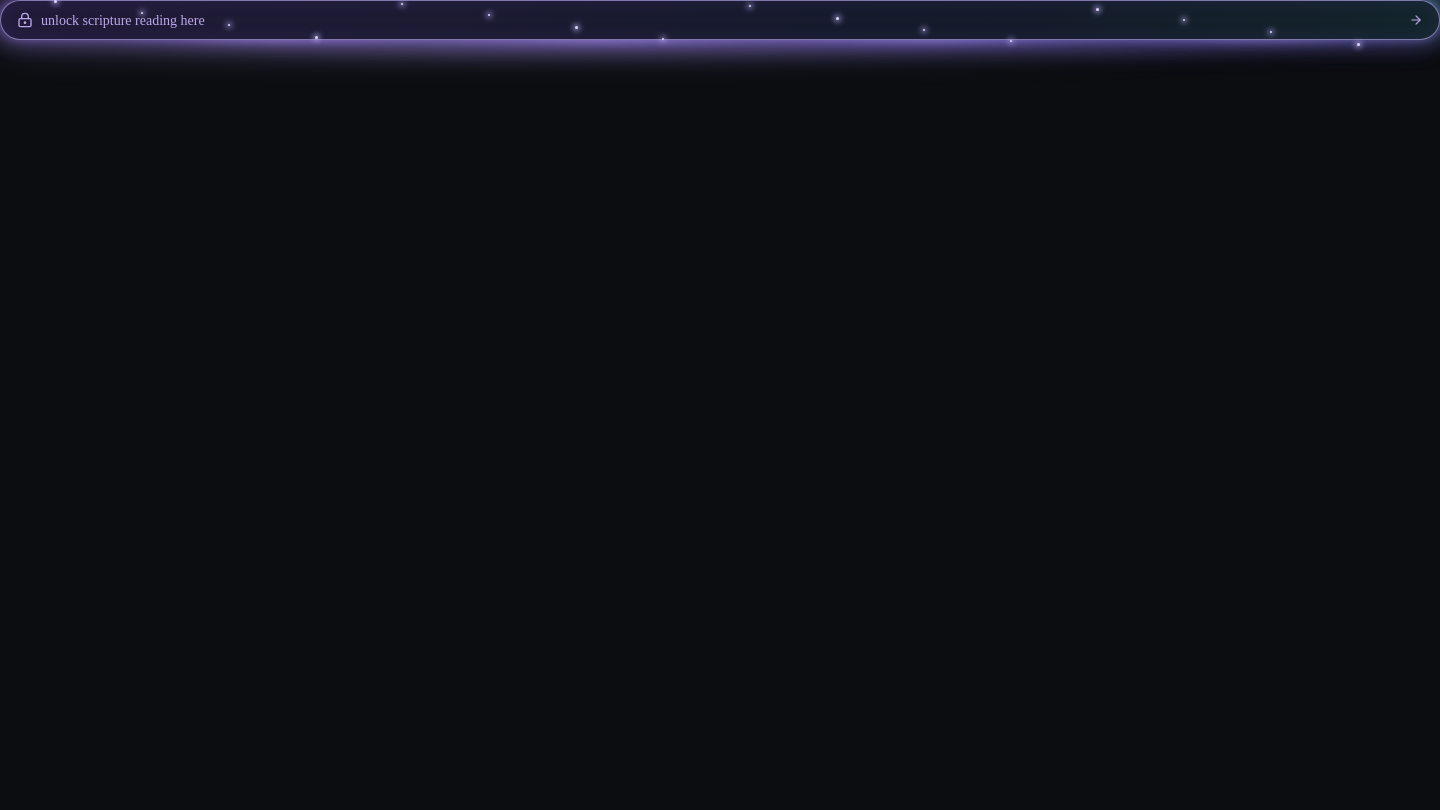
Test case: scripture search setup › starts locked and masks the key, waits for successful storage, and clears the input
Later steps or results of the test are not shown.
Click the button "unlock scripture reading here".
click(123, 20)  # box [0, 0, 1439, 40]
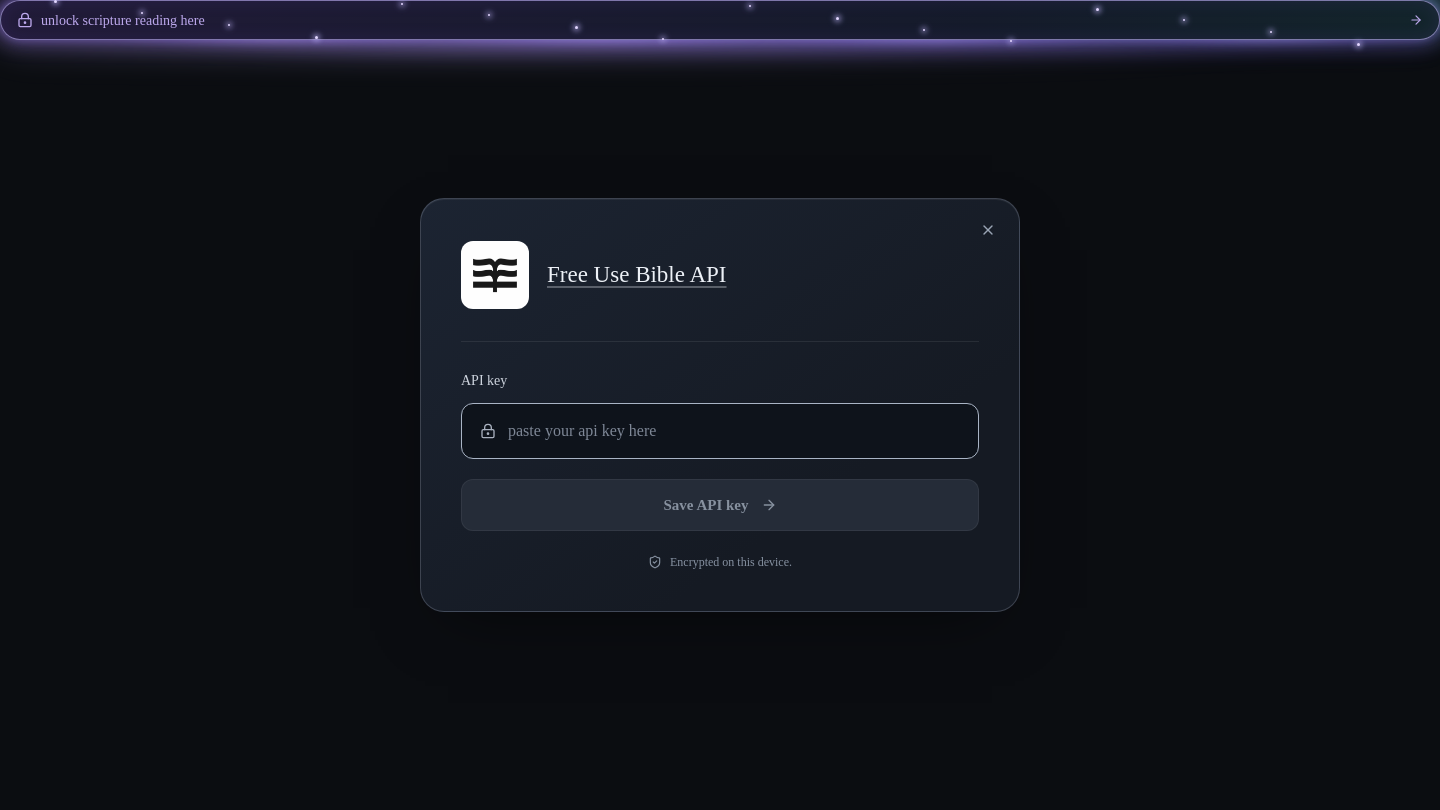
Check: the dialog "Free Use Bible API" is shown, box [420, 198, 1020, 612]
Check: the password field named "API.Bible API key" is enabled, box [508, 404, 960, 458]
Click the link "Free Use Bible API".
click(637, 274)  # box [547, 262, 726, 287]
Type " synthetic-test-key " into the password field named "API.Bible API key".
click(734, 431); type(" synthetic-test-key ")  # box [508, 404, 960, 458]
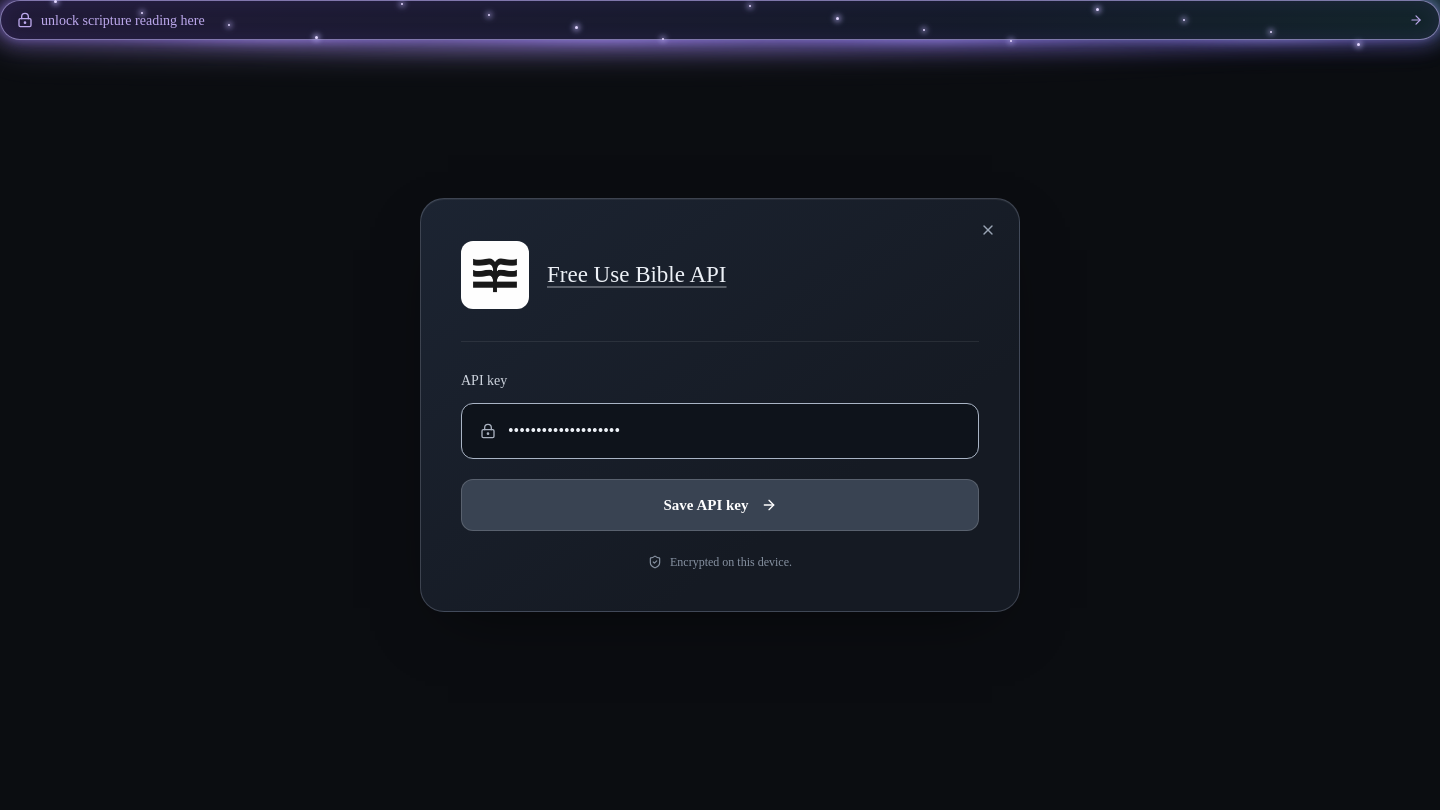
Submit the form named "Scripture search setup", box [461, 341, 979, 531]
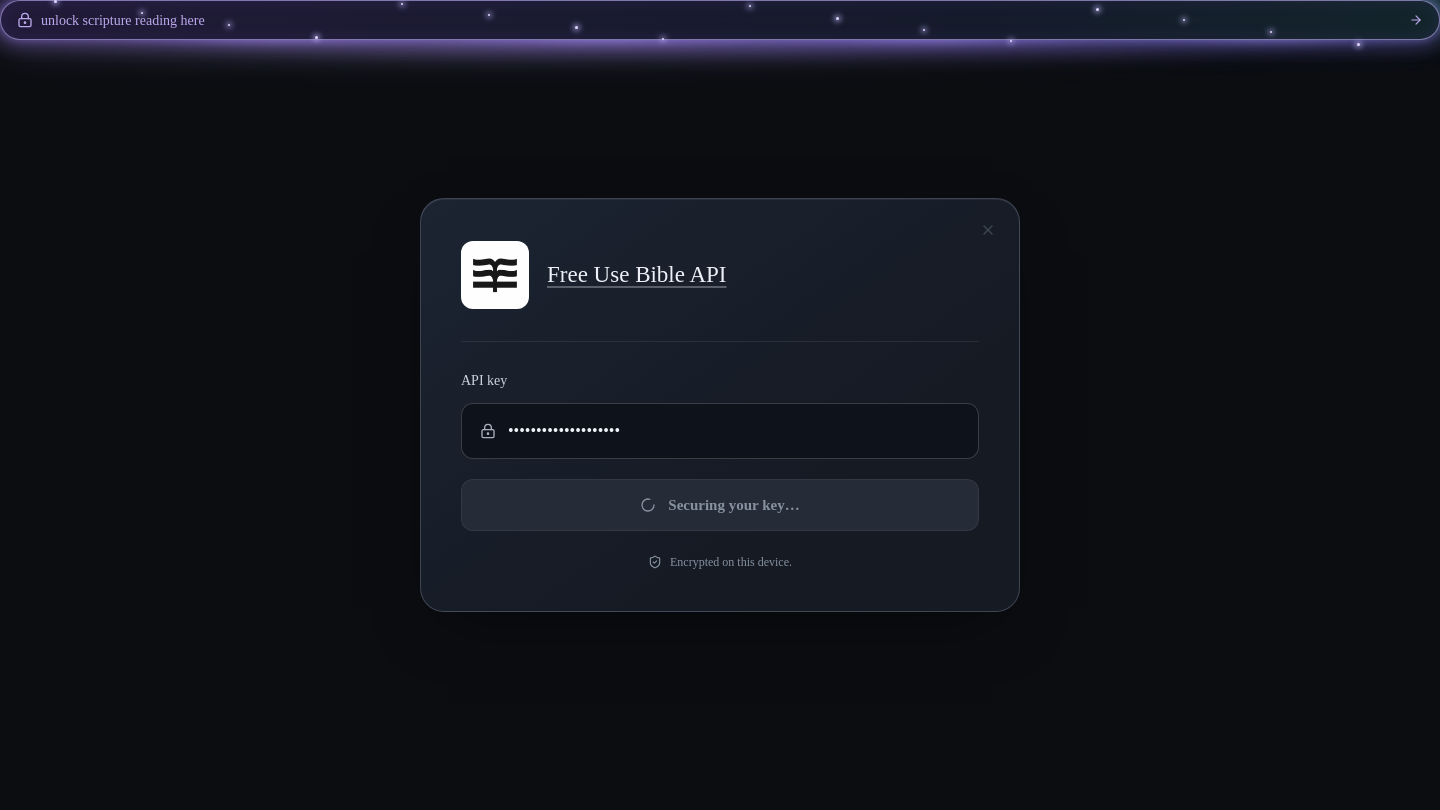
Check: the button with aria-label "Save API key" is disabled, box [461, 479, 979, 531]
Check: the button named "Close scripture setup" is disabled, box [971, 213, 1005, 247]
Press Escape
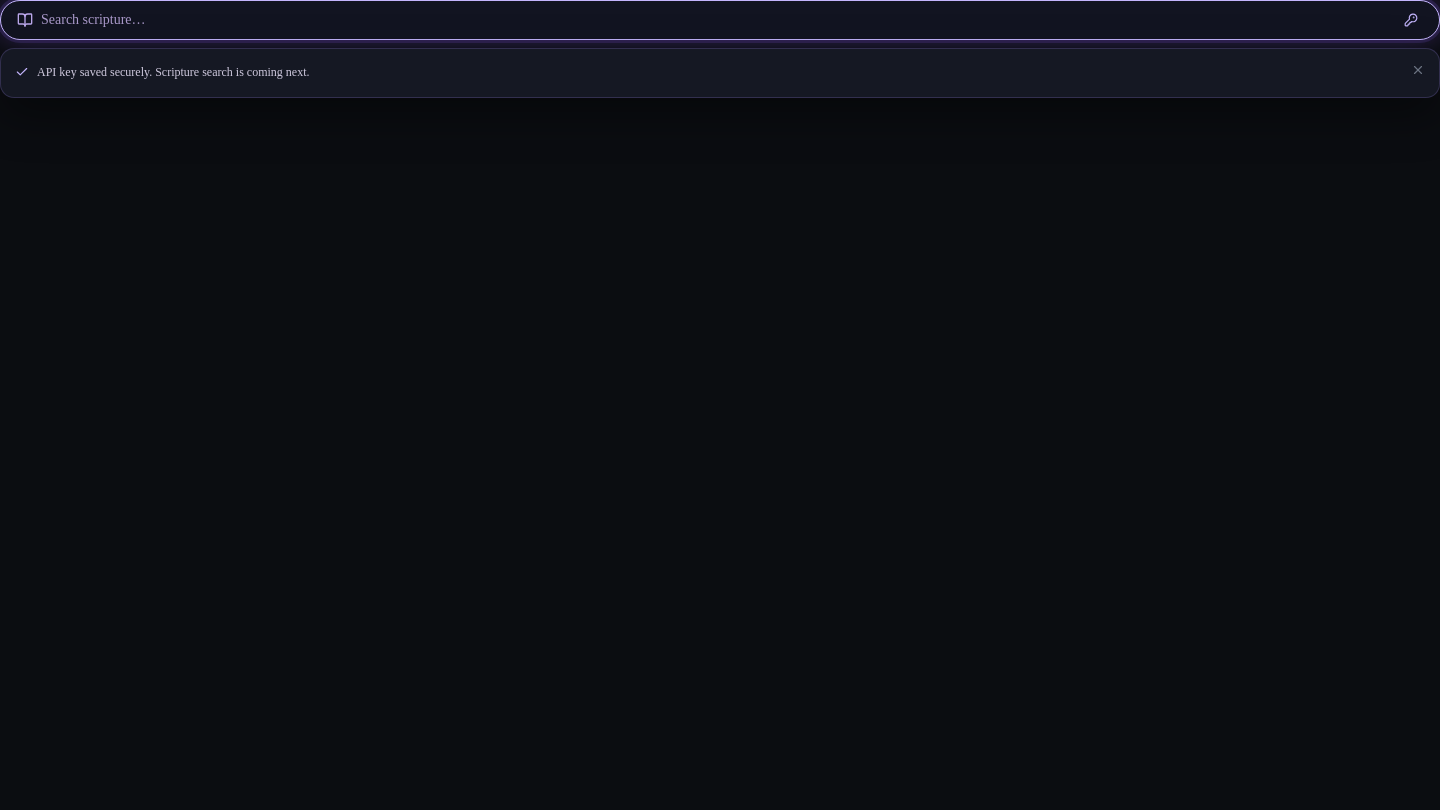
Check: the search field labelled "Search scripture" is empty, box [41, 10, 1391, 30]
Check: the dialog is gone
Check: the message shows "search is coming next", box [37, 65, 310, 79]
